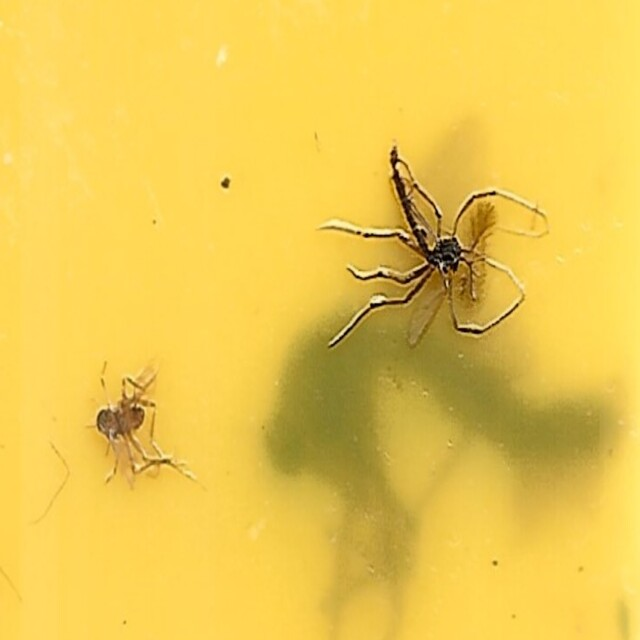Nematocera: (320, 146, 552, 367), (88, 348, 186, 494)
